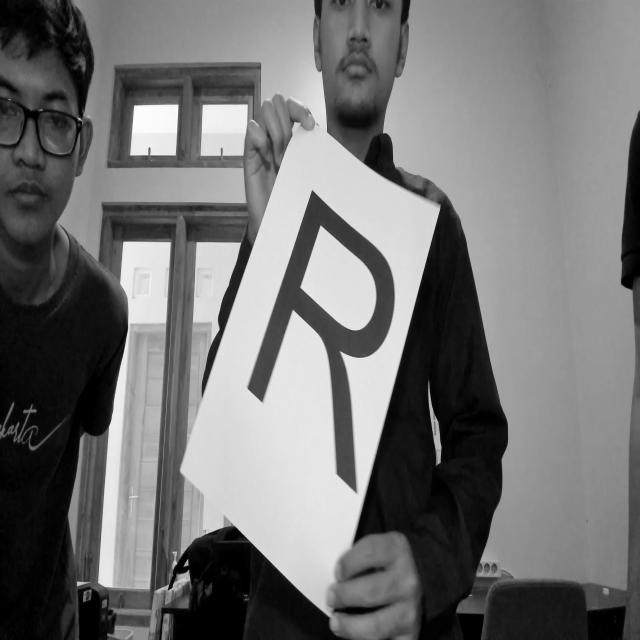r: (230, 174, 401, 511)
